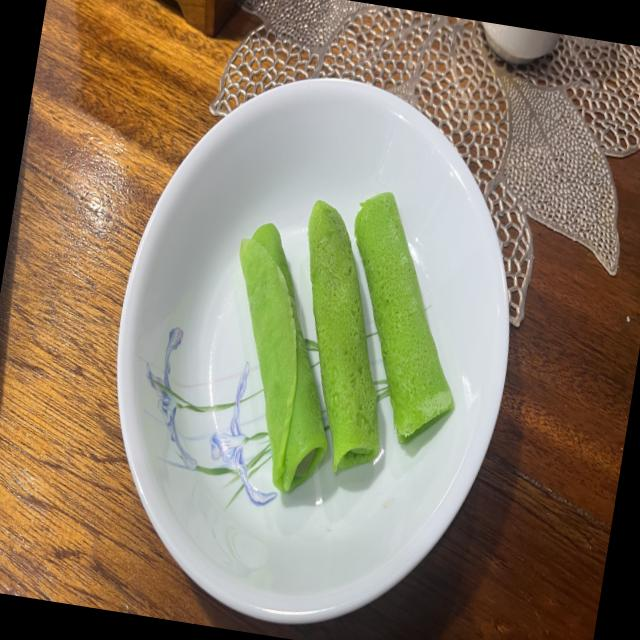Kuih-Ketayap: (355, 193, 454, 443), (239, 224, 327, 493), (308, 200, 380, 471)
